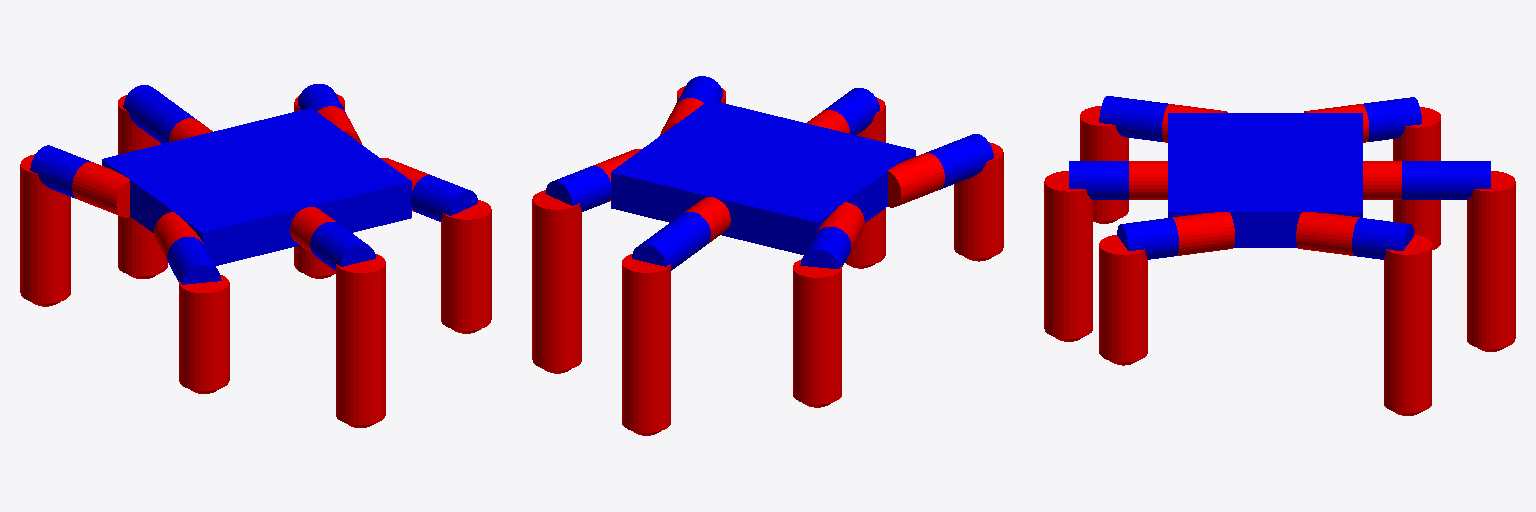
--- What the picture shows (computed from the rendered views, not written in the file) ---
The picture shows the robot from 3 angles, left to right: view 1: azimuth 30°, elevation 25°; view 2: azimuth 150°, elevation 25°; view 3: azimuth 270°, elevation 25°; orthographic projection.
Robot: pexod — 19 links, 18 joints (18 revolute); root link base_link; default pose: all joints at 0.
Visible links, largest first — view 1: base_link, leg_4_3, leg_0_3, leg_3_3, leg_5_3, leg_1_3, leg_0_1, leg_1_2, leg_3_2, leg_4_2, leg_5_2, leg_0_2 (+6 smaller); view 2: base_link, leg_2_3, leg_1_3, leg_0_3, leg_5_3, leg_1_2, leg_5_1, leg_4_3, leg_5_2, leg_2_2, leg_0_2, leg_4_2 (+5 smaller); view 3: base_link, leg_1_3, leg_2_3, leg_4_3, leg_3_3, leg_0_3, leg_1_2, leg_5_3, leg_5_2, leg_2_1, leg_3_1, leg_4_2 (+5 smaller).
Boxes of the visible links, x1=… form: base_link: x1=102, y1=108, x2=411, y2=265; leg_4_3: x1=336, y1=254, x2=385, y2=427; leg_0_3: x1=20, y1=154, x2=70, y2=306; leg_3_3: x1=441, y1=200, x2=491, y2=333; leg_5_3: x1=179, y1=275, x2=229, y2=393; leg_1_3: x1=118, y1=95, x2=167, y2=278; leg_0_1: x1=72, y1=162, x2=129, y2=217; leg_1_2: x1=123, y1=85, x2=196, y2=143; leg_3_2: x1=411, y1=175, x2=477, y2=221; leg_4_2: x1=310, y1=222, x2=375, y2=270; leg_5_2: x1=167, y1=237, x2=221, y2=284; leg_0_2: x1=30, y1=145, x2=90, y2=198; base_link: x1=611, y1=100, x2=915, y2=254; leg_2_3: x1=532, y1=190, x2=581, y2=373; leg_1_3: x1=622, y1=254, x2=670, y2=435; leg_0_3: x1=793, y1=259, x2=841, y2=407; leg_5_3: x1=954, y1=142, x2=1003, y2=261; leg_1_2: x1=632, y1=212, x2=710, y2=270; leg_5_1: x1=888, y1=153, x2=944, y2=207; leg_4_3: x1=845, y1=97, x2=885, y2=268; leg_5_2: x1=926, y1=134, x2=993, y2=189; leg_2_2: x1=545, y1=166, x2=611, y2=211; leg_0_2: x1=800, y1=227, x2=850, y2=268; leg_4_2: x1=823, y1=88, x2=879, y2=134; base_link: x1=1168, y1=113, x2=1362, y2=247; leg_1_3: x1=1467, y1=171, x2=1515, y2=351; leg_2_3: x1=1384, y1=235, x2=1431, y2=415; leg_4_3: x1=1044, y1=171, x2=1092, y2=341; leg_3_3: x1=1099, y1=235, x2=1147, y2=365; leg_0_3: x1=1393, y1=107, x2=1440, y2=249; leg_1_2: x1=1402, y1=161, x2=1490, y2=199; leg_5_3: x1=1080, y1=106, x2=1128, y2=223; leg_5_2: x1=1099, y1=96, x2=1168, y2=141; leg_2_1: x1=1296, y1=212, x2=1359, y2=255; leg_3_1: x1=1172, y1=212, x2=1234, y2=255; leg_4_2: x1=1069, y1=161, x2=1128, y2=199.
Size in the robot's own frame: 0.3611 by 0.482 by 0.2115 metres.
Geometry: primitives only (box / cylinder / sphere), no mesh files.

URDF robot description (pexod):
<?xml version="1.0" ?>
<!-- =================================================================================== -->
<!-- |    This document was autogenerated by xacro from pexod.xacro                    | -->
<!-- |    EDITING THIS FILE BY HAND IS NOT RECOMMENDED                                 | -->
<!-- =================================================================================== -->
<robot name="pexod" xmlns:xacro="http://www.ros.org/wiki/xacro">
  <!-- <xacro:include filename="$(find pexod_description)/urdf/pexod_control.xacro" /> -->
  <!-- MATERIALS -->
  <material name="Blue">
    <color rgba="0 0 1 1"/>
  </material>
  <material name="Red">
    <color rgba="1 0 0 1"/>
  </material>
  <material name="Green">
    <color rgba="0 1 0 1"/>
  </material>
  <material name="Yellow">
    <color rgba="1 1 0 1"/>
  </material>
  <material name="LightGrey">
    <color rgba="0.6 0.6 0.6 1.0"/>
  </material>
  <!-- END OF MATERIALS -->
  <!-- XACRO MACROS FOR VISUALS AND COLLISIONS -->
  <!-- END OF XACRO MACROS -->
  <!-- TORSO -->
  <link name="base_link">
    <visual>
      <origin rpy="0 0 0" xyz="0 0 0"/>
      <geometry>
        <box size="0.24 0.2 0.04"/>
      </geometry>
      <material name="Blue"/>
    </visual>
    <collision>
      <origin rpy="0 0 0" xyz="0 0 0"/>
      <geometry>
        <box size="0.24 0.2 0.04"/>
      </geometry>
    </collision>
    <inertial>
      <!-- CENTER OF MASS -->
      <origin rpy="0 0 0" xyz="0 0 0"/>
      <mass value="1.031"/>
      <!-- box inertia: 1/12*m(y^2+z^2), ... -->
      <inertia ixx="0.00357413333333" ixy="0" ixz="0" iyy="0.00508626666667" iyz="0" izz="0.00838546666667"/>
    </inertial>
  </link>
  <!-- XACRO MACRO FOR LEGS LINKS/JOINTS -->
  <!-- END OF LEG LINKS/JOINTS -->
  <joint name="body_leg_2" type="revolute">
    <parent link="base_link"/>
    <child link="leg_2_1"/>
    <limit effort="30.0" lower="-1.57079632679" upper="1.57079632679" velocity="7.0"/>
    <origin rpy="0 0 -0.3" xyz="0.11 0.04 0"/>
    <!-- <xacro:if value="${index == 5 or index == 4 or index == 3}">
                <axis xyz="0 0 1"/>
            </xacro:if>
            <xacro:if value="${index == 2 or index == 1 or index == 0}"> -->
    <axis xyz="0 0 1"/>
    <!-- </xacro:if> -->
    <dynamics damping="0.0"/>
  </joint>
  <link name="leg_2_1">
    <visual>
      <origin rpy="1.57079632679 0 0" xyz="0.01 0.03 0"/>
      <geometry>
        <cylinder length="0.06" radius="0.02"/>
      </geometry>
      <material name="Red"/>
    </visual>
    <collision>
      <origin rpy="1.57079632679 0 0" xyz="0.01 0.03 0"/>
      <geometry>
        <box size="0.02 0.02 0.06"/>
      </geometry>
    </collision>
    <inertial>
      <!-- CENTER OF MASS -->
      <origin rpy="1.57079632679 0 0" xyz="0.01 0.03 0"/>
      <mass value="0.02"/>
      <!-- box inertia: 1/12*m(y^2+z^2), ... -->
      <inertia ixx="6.66666666667e-06" ixy="0" ixz="0" iyy="6.66666666667e-06" iyz="0" izz="1.33333333333e-06"/>
    </inertial>
  </link>
  <joint name="leg_2_1_2" type="revolute">
    <parent link="leg_2_1"/>
    <child link="leg_2_2"/>
    <limit effort="30.0" lower="-0.78539816339" upper="0.78539816339" velocity="7.0"/>
    <origin rpy="0 0 0" xyz="0 0.06 0"/>
    <axis xyz="1 0 0"/>
    <dynamics damping="0.0"/>
  </joint>
  <link name="leg_2_2">
    <visual>
      <origin rpy="1.57079632679 0 0" xyz="0.01 0.0271638656373 0"/>
      <geometry>
        <cylinder length="0.0543277312746" radius="0.02"/>
      </geometry>
      <material name="Blue"/>
    </visual>
    <collision>
      <origin rpy="1.57079632679 0 0" xyz="0.01 0.0271638656373 0"/>
      <geometry>
        <box size="0.02 0.02 0.0543277312746"/>
      </geometry>
    </collision>
    <inertial>
      <!-- CENTER OF MASS -->
      <origin rpy="1.57079632679 0 0" xyz="0.01 0.0271638656373 0"/>
      <mass value="0.184"/>
      <!-- box inertia: 1/12*m(y^2+z^2), ... -->
      <inertia ixx="5.13897032435e-05" ixy="0" ixz="0" iyy="5.13897032435e-05" iyz="0" izz="1.22666666667e-05"/>
    </inertial>
  </link>
  <joint name="leg_2_2_3" type="revolute">
    <parent link="leg_2_2"/>
    <child link="leg_2_3"/>
    <limit effort="30.0" lower="-0.78539816339" upper="0.78539816339" velocity="7.0"/>
    <origin rpy="-1.57079632679 0 0" xyz="0 0.0543277312746 0"/>
    <axis xyz="-1 0 0"/>
    <dynamics damping="0.0"/>
  </joint>
  <link name="leg_2_3">
    <visual>
      <origin rpy="1.57079632679 0 0" xyz="0.0125 0.089477927869 0"/>
      <geometry>
        <cylinder length="0.178955855738" radius="0.025"/>
      </geometry>
      <material name="Red"/>
    </visual>
    <visual>
      <origin rpy="1.57079632679 0 0" xyz="0.0125 0.166455855738 0"/>
      <geometry>
        <sphere radius="0.025"/>
      </geometry>
      <material name="Red"/>
    </visual>
    <collision>
      <origin rpy="1.57079632679 0 0" xyz="0.0125 0.089477927869 0"/>
      <geometry>
        <box size="0.025 0.025 0.178955855738"/>
      </geometry>
    </collision>
    <collision>
      <origin rpy="1.57079632679 0 0" xyz="0.0125 0.166455855738 0"/>
      <geometry>
        <sphere radius="0.025"/>
      </geometry>
      <material name="Red"/>
    </collision>
    <inertial>
      <!-- CENTER OF MASS -->
      <origin rpy="1.57079632679 0 0" xyz="0.0125 0.089477927869 0"/>
      <mass value="0.04"/>
      <!-- box inertia: 1/12*m(y^2+z^2), ... -->
      <inertia ixx="0.000108833994343" ixy="0" ixz="0" iyy="0.000108833994343" iyz="0" izz="4.16666666667e-06"/>
    </inertial>
  </link>
  <joint name="body_leg_3" type="revolute">
    <parent link="base_link"/>
    <child link="leg_3_1"/>
    <limit effort="30.0" lower="-1.57079632679" upper="1.57079632679" velocity="7.0"/>
    <origin rpy="0 0 0.3" xyz="0.11 -0.04 0"/>
    <!-- <xacro:if value="${index == 5 or index == 4 or index == 3}">
                <axis xyz="0 0 1"/>
            </xacro:if>
            <xacro:if value="${index == 2 or index == 1 or index == 0}"> -->
    <axis xyz="0 0 1"/>
    <!-- </xacro:if> -->
    <dynamics damping="0.0"/>
  </joint>
  <link name="leg_3_1">
    <visual>
      <origin rpy="1.57079632679 0 0" xyz="0.01 -0.03 0"/>
      <geometry>
        <cylinder length="0.06" radius="0.02"/>
      </geometry>
      <material name="Red"/>
    </visual>
    <collision>
      <origin rpy="1.57079632679 0 0" xyz="0.01 -0.03 0"/>
      <geometry>
        <box size="0.02 0.02 0.06"/>
      </geometry>
    </collision>
    <inertial>
      <!-- CENTER OF MASS -->
      <origin rpy="1.57079632679 0 0" xyz="0.01 -0.03 0"/>
      <mass value="0.02"/>
      <!-- box inertia: 1/12*m(y^2+z^2), ... -->
      <inertia ixx="6.66666666667e-06" ixy="0" ixz="0" iyy="6.66666666667e-06" iyz="0" izz="1.33333333333e-06"/>
    </inertial>
  </link>
  <joint name="leg_3_1_2" type="revolute">
    <parent link="leg_3_1"/>
    <child link="leg_3_2"/>
    <limit effort="30.0" lower="-0.78539816339" upper="0.78539816339" velocity="7.0"/>
    <origin rpy="0 0 0" xyz="0 -0.06 0"/>
    <axis xyz="-1 0 0"/>
    <dynamics damping="0.0"/>
  </joint>
  <link name="leg_3_2">
    <visual>
      <origin rpy="1.57079632679 0 0" xyz="0.01 -0.0270403777428 0"/>
      <geometry>
        <cylinder length="0.0540807554855" radius="0.02"/>
      </geometry>
      <material name="Blue"/>
    </visual>
    <collision>
      <origin rpy="1.57079632679 0 0" xyz="0.01 -0.0270403777428 0"/>
      <geometry>
        <box size="0.02 0.02 0.0540807554855"/>
      </geometry>
    </collision>
    <inertial>
      <!-- CENTER OF MASS -->
      <origin rpy="1.57079632679 0 0" xyz="0.01 -0.0270403777428 0"/>
      <mass value="0.184"/>
      <!-- box inertia: 1/12*m(y^2+z^2), ... -->
      <inertia ixx="5.09791644129e-05" ixy="0" ixz="0" iyy="5.09791644129e-05" iyz="0" izz="1.22666666667e-05"/>
    </inertial>
  </link>
  <joint name="leg_3_2_3" type="revolute">
    <parent link="leg_3_2"/>
    <child link="leg_3_3"/>
    <limit effort="30.0" lower="-0.78539816339" upper="0.78539816339" velocity="7.0"/>
    <origin rpy="1.57079632679 0 0" xyz="0 -0.0540807554855 0"/>
    <axis xyz="1 0 0"/>
    <dynamics damping="0.0"/>
  </joint>
  <link name="leg_3_3">
    <visual>
      <origin rpy="1.57079632679 0 0" xyz="0.0125 -0.0607871711305 0"/>
      <geometry>
        <cylinder length="0.121574342261" radius="0.025"/>
      </geometry>
      <material name="Red"/>
    </visual>
    <visual>
      <origin rpy="1.57079632679 0 0" xyz="0.0125 -0.109074342261 0"/>
      <geometry>
        <sphere radius="0.025"/>
      </geometry>
      <material name="Red"/>
    </visual>
    <collision>
      <origin rpy="1.57079632679 0 0" xyz="0.0125 -0.0607871711305 0"/>
      <geometry>
        <box size="0.025 0.025 0.121574342261"/>
      </geometry>
    </collision>
    <collision>
      <origin rpy="1.57079632679 0 0" xyz="0.0125 -0.109074342261 0"/>
      <geometry>
        <sphere radius="0.025"/>
      </geometry>
      <material name="Red"/>
    </collision>
    <inertial>
      <!-- CENTER OF MASS -->
      <origin rpy="1.57079632679 0 0" xyz="0.0125 -0.0607871711305 0"/>
      <mass value="0.04"/>
      <!-- box inertia: 1/12*m(y^2+z^2), ... -->
      <inertia ixx="5.13510689873e-05" ixy="0" ixz="0" iyy="5.13510689873e-05" iyz="0" izz="4.16666666667e-06"/>
    </inertial>
  </link>
  <joint name="body_leg_0" type="revolute">
    <parent link="base_link"/>
    <child link="leg_0_1"/>
    <limit effort="30.0" lower="-1.57079632679" upper="1.57079632679" velocity="7.0"/>
    <origin rpy="0 0 0.3" xyz="-0.13 0.04 0"/>
    <!-- <xacro:if value="${index == 5 or index == 4 or index == 3}">
                <axis xyz="0 0 1"/>
            </xacro:if>
            <xacro:if value="${index == 2 or index == 1 or index == 0}"> -->
    <axis xyz="0 0 1"/>
    <!-- </xacro:if> -->
    <dynamics damping="0.0"/>
  </joint>
  <link name="leg_0_1">
    <visual>
      <origin rpy="1.57079632679 0 0" xyz="0.01 0.03 0"/>
      <geometry>
        <cylinder length="0.06" radius="0.02"/>
      </geometry>
      <material name="Red"/>
    </visual>
    <collision>
      <origin rpy="1.57079632679 0 0" xyz="0.01 0.03 0"/>
      <geometry>
        <box size="0.02 0.02 0.06"/>
      </geometry>
    </collision>
    <inertial>
      <!-- CENTER OF MASS -->
      <origin rpy="1.57079632679 0 0" xyz="0.01 0.03 0"/>
      <mass value="0.02"/>
      <!-- box inertia: 1/12*m(y^2+z^2), ... -->
      <inertia ixx="6.66666666667e-06" ixy="0" ixz="0" iyy="6.66666666667e-06" iyz="0" izz="1.33333333333e-06"/>
    </inertial>
  </link>
  <joint name="leg_0_1_2" type="revolute">
    <parent link="leg_0_1"/>
    <child link="leg_0_2"/>
    <limit effort="30.0" lower="-0.78539816339" upper="0.78539816339" velocity="7.0"/>
    <origin rpy="0 0 0" xyz="0 0.06 0"/>
    <axis xyz="1 0 0"/>
    <dynamics damping="0.0"/>
  </joint>
  <link name="leg_0_2">
    <visual>
      <origin rpy="1.57079632679 0 0" xyz="0.01 0.0282157618193 0"/>
      <geometry>
        <cylinder length="0.0564315236387" radius="0.02"/>
      </geometry>
      <material name="Blue"/>
    </visual>
    <collision>
      <origin rpy="1.57079632679 0 0" xyz="0.01 0.0282157618193 0"/>
      <geometry>
        <box size="0.02 0.02 0.0564315236387"/>
      </geometry>
    </collision>
    <inertial>
      <!-- CENTER OF MASS -->
      <origin rpy="1.57079632679 0 0" xyz="0.01 0.0282157618193 0"/>
      <mass value="0.184"/>
      <!-- box inertia: 1/12*m(y^2+z^2), ... -->
      <inertia ixx="5.49625918562e-05" ixy="0" ixz="0" iyy="5.49625918562e-05" iyz="0" izz="1.22666666667e-05"/>
    </inertial>
  </link>
  <joint name="leg_0_2_3" type="revolute">
    <parent link="leg_0_2"/>
    <child link="leg_0_3"/>
    <limit effort="30.0" lower="-0.78539816339" upper="0.78539816339" velocity="7.0"/>
    <origin rpy="-1.57079632679 0 0" xyz="0 0.0564315236387 0"/>
    <axis xyz="-1 0 0"/>
    <dynamics damping="0.0"/>
  </joint>
  <link name="leg_0_3">
    <visual>
      <origin rpy="1.57079632679 0 0" xyz="0.0125 0.0706004088115 0"/>
      <geometry>
        <cylinder length="0.141200817623" radius="0.025"/>
      </geometry>
      <material name="Red"/>
    </visual>
    <visual>
      <origin rpy="1.57079632679 0 0" xyz="0.0125 0.128700817623 0"/>
      <geometry>
        <sphere radius="0.025"/>
      </geometry>
      <material name="Red"/>
    </visual>
    <collision>
      <origin rpy="1.57079632679 0 0" xyz="0.0125 0.0706004088115 0"/>
      <geometry>
        <box size="0.025 0.025 0.141200817623"/>
      </geometry>
    </collision>
    <collision>
      <origin rpy="1.57079632679 0 0" xyz="0.0125 0.128700817623 0"/>
      <geometry>
        <sphere radius="0.025"/>
      </geometry>
      <material name="Red"/>
    </collision>
    <inertial>
      <!-- CENTER OF MASS -->
      <origin rpy="1.57079632679 0 0" xyz="0.0125 0.0706004088115 0"/>
      <mass value="0.04"/>
      <!-- box inertia: 1/12*m(y^2+z^2), ... -->
      <inertia ixx="6.85422363247e-05" ixy="0" ixz="0" iyy="6.85422363247e-05" iyz="0" izz="4.16666666667e-06"/>
    </inertial>
  </link>
  <joint name="body_leg_5" type="revolute">
    <parent link="base_link"/>
    <child link="leg_5_1"/>
    <limit effort="30.0" lower="-1.57079632679" upper="1.57079632679" velocity="7.0"/>
    <origin rpy="0 0 -0.3" xyz="-0.13 -0.04 0"/>
    <!-- <xacro:if value="${index == 5 or index == 4 or index == 3}">
                <axis xyz="0 0 1"/>
            </xacro:if>
            <xacro:if value="${index == 2 or index == 1 or index == 0}"> -->
    <axis xyz="0 0 1"/>
    <!-- </xacro:if> -->
    <dynamics damping="0.0"/>
  </joint>
  <link name="leg_5_1">
    <visual>
      <origin rpy="1.57079632679 0 0" xyz="0.01 -0.03 0"/>
      <geometry>
        <cylinder length="0.06" radius="0.02"/>
      </geometry>
      <material name="Red"/>
    </visual>
    <collision>
      <origin rpy="1.57079632679 0 0" xyz="0.01 -0.03 0"/>
      <geometry>
        <box size="0.02 0.02 0.06"/>
      </geometry>
    </collision>
    <inertial>
      <!-- CENTER OF MASS -->
      <origin rpy="1.57079632679 0 0" xyz="0.01 -0.03 0"/>
      <mass value="0.02"/>
      <!-- box inertia: 1/12*m(y^2+z^2), ... -->
      <inertia ixx="6.66666666667e-06" ixy="0" ixz="0" iyy="6.66666666667e-06" iyz="0" izz="1.33333333333e-06"/>
    </inertial>
  </link>
  <joint name="leg_5_1_2" type="revolute">
    <parent link="leg_5_1"/>
    <child link="leg_5_2"/>
    <limit effort="30.0" lower="-0.78539816339" upper="0.78539816339" velocity="7.0"/>
    <origin rpy="0 0 0" xyz="0 -0.06 0"/>
    <axis xyz="-1 0 0"/>
    <dynamics damping="0.0"/>
  </joint>
  <link name="leg_5_2">
    <visual>
      <origin rpy="1.57079632679 0 0" xyz="0.01 -0.0335376358262 0"/>
      <geometry>
        <cylinder length="0.0670752716524" radius="0.02"/>
      </geometry>
      <material name="Blue"/>
    </visual>
    <collision>
      <origin rpy="1.57079632679 0 0" xyz="0.01 -0.0335376358262 0"/>
      <geometry>
        <box size="0.02 0.02 0.0670752716524"/>
      </geometry>
    </collision>
    <inertial>
      <!-- CENTER OF MASS -->
      <origin rpy="1.57079632679 0 0" xyz="0.01 -0.0335376358262 0"/>
      <mass value="0.184"/>
      <!-- box inertia: 1/12*m(y^2+z^2), ... -->
      <inertia ixx="7.51194116977e-05" ixy="0" ixz="0" iyy="7.51194116977e-05" iyz="0" izz="1.22666666667e-05"/>
    </inertial>
  </link>
  <joint name="leg_5_2_3" type="revolute">
    <parent link="leg_5_2"/>
    <child link="leg_5_3"/>
    <limit effort="30.0" lower="-0.78539816339" upper="0.78539816339" velocity="7.0"/>
    <origin rpy="1.57079632679 0 0" xyz="0 -0.0670752716524 0"/>
    <axis xyz="1 0 0"/>
    <dynamics damping="0.0"/>
  </joint>
  <link name="leg_5_3">
    <visual>
      <origin rpy="1.57079632679 0 0" xyz="0.0125 -0.0534949446895 0"/>
      <geometry>
        <cylinder length="0.106989889379" radius="0.025"/>
      </geometry>
      <material name="Red"/>
    </visual>
    <visual>
      <origin rpy="1.57079632679 0 0" xyz="0.0125 -0.094489889379 0"/>
      <geometry>
        <sphere radius="0.025"/>
      </geometry>
      <material name="Red"/>
    </visual>
    <collision>
      <origin rpy="1.57079632679 0 0" xyz="0.0125 -0.0534949446895 0"/>
      <geometry>
        <box size="0.025 0.025 0.106989889379"/>
      </geometry>
    </collision>
    <collision>
      <origin rpy="1.57079632679 0 0" xyz="0.0125 -0.094489889379 0"/>
      <geometry>
        <sphere radius="0.025"/>
      </geometry>
      <material name="Red"/>
    </collision>
    <inertial>
      <!-- CENTER OF MASS -->
      <origin rpy="1.57079632679 0 0" xyz="0.0125 -0.0534949446895 0"/>
      <mass value="0.04"/>
      <!-- box inertia: 1/12*m(y^2+z^2), ... -->
      <inertia ixx="4.02394547644e-05" ixy="0" ixz="0" iyy="4.02394547644e-05" iyz="0" izz="4.16666666667e-06"/>
    </inertial>
  </link>
  <joint name="body_leg_1" type="revolute">
    <parent link="base_link"/>
    <child link="leg_1_1"/>
    <limit effort="30.0" lower="-1.57079632679" upper="1.57079632679" velocity="7.0"/>
    <origin rpy="0 0 0" xyz="-0.01 0.08 0"/>
    <!-- <xacro:if value="${index == 5 or index == 4 or index == 3}">
                <axis xyz="0 0 1"/>
            </xacro:if>
            <xacro:if value="${index == 2 or index == 1 or index == 0}"> -->
    <axis xyz="0 0 1"/>
    <!-- </xacro:if> -->
    <dynamics damping="0.0"/>
  </joint>
  <link name="leg_1_1">
    <visual>
      <origin rpy="1.57079632679 0 0" xyz="0.01 0.03 0"/>
      <geometry>
        <cylinder length="0.06" radius="0.02"/>
      </geometry>
      <material name="Red"/>
    </visual>
    <collision>
      <origin rpy="1.57079632679 0 0" xyz="0.01 0.03 0"/>
      <geometry>
        <box size="0.02 0.02 0.06"/>
      </geometry>
    </collision>
    <inertial>
      <!-- CENTER OF MASS -->
      <origin rpy="1.57079632679 0 0" xyz="0.01 0.03 0"/>
      <mass value="0.02"/>
      <!-- box inertia: 1/12*m(y^2+z^2), ... -->
      <inertia ixx="6.66666666667e-06" ixy="0" ixz="0" iyy="6.66666666667e-06" iyz="0" izz="1.33333333333e-06"/>
    </inertial>
  </link>
  <joint name="leg_1_1_2" type="revolute">
    <parent link="leg_1_1"/>
    <child link="leg_1_2"/>
    <limit effort="30.0" lower="-0.78539816339" upper="0.78539816339" velocity="7.0"/>
    <origin rpy="0 0 0" xyz="0 0.06 0"/>
    <axis xyz="1 0 0"/>
    <dynamics damping="0.0"/>
  </joint>
  <link name="leg_1_2">
    <visual>
      <origin rpy="1.57079632679 0 0" xyz="0.01 0.0453262395386 0"/>
      <geometry>
        <cylinder length="0.0906524790773" radius="0.02"/>
      </geometry>
      <material name="Blue"/>
    </visual>
    <collision>
      <origin rpy="1.57079632679 0 0" xyz="0.01 0.0453262395386 0"/>
      <geometry>
        <box size="0.02 0.02 0.0906524790773"/>
      </geometry>
    </collision>
    <inertial>
      <!-- CENTER OF MASS -->
      <origin rpy="1.57079632679 0 0" xyz="0.01 0.0453262395386 0"/>
      <mass value="0.184"/>
      <!-- box inertia: 1/12*m(y^2+z^2), ... -->
      <inertia ixx="0.000132140703431" ixy="0" ixz="0" iyy="0.000132140703431" iyz="0" izz="1.22666666667e-05"/>
    </inertial>
  </link>
  <joint name="leg_1_2_3" type="revolute">
    <parent link="leg_1_2"/>
    <child link="leg_1_3"/>
    <limit effort="30.0" lower="-0.78539816339" upper="0.78539816339" velocity="7.0"/>
    <origin rpy="-1.57079632679 0 0" xyz="0 0.0906524790773 0"/>
    <axis xyz="-1 0 0"/>
    <dynamics damping="0.0"/>
  </joint>
  <link name="leg_1_3">
    <visual>
      <origin rpy="1.57079632679 0 0" xyz="0.0125 0.089041058849 0"/>
      <geometry>
        <cylinder length="0.178082117698" radius="0.025"/>
      </geometry>
      <material name="Red"/>
    </visual>
    <visual>
      <origin rpy="1.57079632679 0 0" xyz="0.0125 0.165582117698 0"/>
      <geometry>
        <sphere radius="0.025"/>
      </geometry>
      <material name="Red"/>
    </visual>
    <collision>
      <origin rpy="1.57079632679 0 0" xyz="0.0125 0.089041058849 0"/>
      <geometry>
        <box size="0.025 0.025 0.178082117698"/>
      </geometry>
    </collision>
    <collision>
      <origin rpy="1.57079632679 0 0" xyz="0.0125 0.165582117698 0"/>
      <geometry>
        <sphere radius="0.025"/>
      </geometry>
      <material name="Red"/>
    </collision>
    <inertial>
      <!-- CENTER OF MASS -->
      <origin rpy="1.57079632679 0 0" xyz="0.0125 0.089041058849 0"/>
      <mass value="0.04"/>
      <!-- box inertia: 1/12*m(y^2+z^2), ... -->
      <inertia ixx="0.000107794135479" ixy="0" ixz="0" iyy="0.000107794135479" iyz="0" izz="4.16666666667e-06"/>
    </inertial>
  </link>
  <joint name="body_leg_4" type="revolute">
    <parent link="base_link"/>
    <child link="leg_4_1"/>
    <limit effort="30.0" lower="-1.57079632679" upper="1.57079632679" velocity="7.0"/>
    <origin rpy="0 0 0" xyz="-0.01 -0.08 0"/>
    <!-- <xacro:if value="${index == 5 or index == 4 or index == 3}">
                <axis xyz="0 0 1"/>
            </xacro:if>
            <xacro:if value="${index == 2 or index == 1 or index == 0}"> -->
    <axis xyz="0 0 1"/>
    <!-- </xacro:if> -->
    <dynamics damping="0.0"/>
  </joint>
  <link name="leg_4_1">
    <visual>
      <origin rpy="1.57079632679 0 0" xyz="0.01 -0.03 0"/>
      <geometry>
        <cylinder length="0.06" radius="0.02"/>
      </geometry>
      <material name="Red"/>
    </visual>
    <collision>
      <origin rpy="1.57079632679 0 0" xyz="0.01 -0.03 0"/>
      <geometry>
        <box size="0.02 0.02 0.06"/>
      </geometry>
    </collision>
    <inertial>
      <!-- CENTER OF MASS -->
      <origin rpy="1.57079632679 0 0" xyz="0.01 -0.03 0"/>
      <mass value="0.02"/>
      <!-- box inertia: 1/12*m(y^2+z^2), ... -->
      <inertia ixx="6.66666666667e-06" ixy="0" ixz="0" iyy="6.66666666667e-06" iyz="0" izz="1.33333333333e-06"/>
    </inertial>
  </link>
  <joint name="leg_4_1_2" type="revolute">
    <parent link="leg_4_1"/>
    <child link="leg_4_2"/>
    <limit effort="30.0" lower="-0.78539816339" upper="0.78539816339" velocity="7.0"/>
    <origin rpy="0 0 0" xyz="0 -0.06 0"/>
    <axis xyz="-1 0 0"/>
    <dynamics damping="0.0"/>
  </joint>
  <link name="leg_4_2">
    <visual>
      <origin rpy="1.57079632679 0 0" xyz="0.01 -0.0306575743088 0"/>
      <geometry>
        <cylinder length="0.0613151486175" radius="0.02"/>
      </geometry>
      <material name="Blue"/>
    </visual>
    <collision>
      <origin rpy="1.57079632679 0 0" xyz="0.01 -0.0306575743088 0"/>
      <geometry>
        <box size="0.02 0.02 0.0613151486175"/>
      </geometry>
    </collision>
    <inertial>
      <!-- CENTER OF MASS -->
      <origin rpy="1.57079632679 0 0" xyz="0.01 -0.0306575743088 0"/>
      <mass value="0.184"/>
      <!-- box inertia: 1/12*m(y^2+z^2), ... -->
      <inertia ixx="6.37797275665e-05" ixy="0" ixz="0" iyy="6.37797275665e-05" iyz="0" izz="1.22666666667e-05"/>
    </inertial>
  </link>
  <joint name="leg_4_2_3" type="revolute">
    <parent link="leg_4_2"/>
    <child link="leg_4_3"/>
    <limit effort="30.0" lower="-0.78539816339" upper="0.78539816339" velocity="7.0"/>
    <origin rpy="1.57079632679 0 0" xyz="0 -0.0613151486175 0"/>
    <axis xyz="1 0 0"/>
    <dynamics damping="0.0"/>
  </joint>
  <link name="leg_4_3">
    <visual>
      <origin rpy="1.57079632679 0 0" xyz="0.0125 -0.0832520398855 0"/>
      <geometry>
        <cylinder length="0.166504079771" radius="0.025"/>
      </geometry>
      <material name="Red"/>
    </visual>
    <visual>
      <origin rpy="1.57079632679 0 0" xyz="0.0125 -0.154004079771 0"/>
      <geometry>
        <sphere radius="0.025"/>
      </geometry>
      <material name="Red"/>
    </visual>
    <collision>
      <origin rpy="1.57079632679 0 0" xyz="0.0125 -0.0832520398855 0"/>
      <geometry>
        <box size="0.025 0.025 0.166504079771"/>
      </geometry>
    </collision>
    <collision>
      <origin rpy="1.57079632679 0 0" xyz="0.0125 -0.154004079771 0"/>
      <geometry>
        <sphere radius="0.025"/>
      </geometry>
      <material name="Red"/>
    </collision>
    <inertial>
      <!-- CENTER OF MASS -->
      <origin rpy="1.57079632679 0 0" xyz="0.0125 -0.0832520398855 0"/>
      <mass value="0.04"/>
      <!-- box inertia: 1/12*m(y^2+z^2), ... -->
      <inertia ixx="9.44953619346e-05" ixy="0" ixz="0" iyy="9.44953619346e-05" iyz="0" izz="4.16666666667e-06"/>
    </inertial>
  </link>
  <!-- END OF LEG LINKS/JOINTS -->
</robot>
